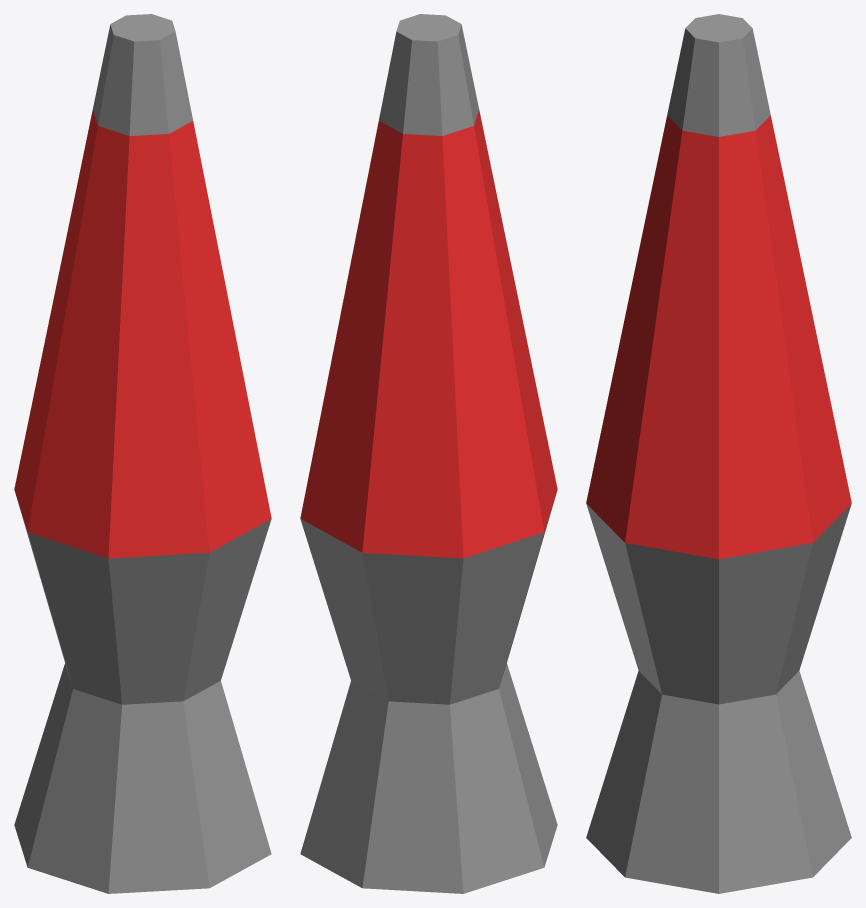
The model's file is lava4.gltf.
3 renders of one model, left to right at view 1: azimuth 30°, elevation 25°; view 2: azimuth 150°, elevation 25°; view 3: azimuth 270°, elevation 25°, orthographic.
Visible parts, largest first — view 1: Mesh_1, Mesh_2; view 2: Mesh_1, Mesh_2; view 3: Mesh_1, Mesh_2.
Boxes of the visible parts, x1,y1,x2,y2 form: Mesh_1: [14, 14, 271, 893]; Mesh_2: [14, 109, 271, 558]; Mesh_1: [300, 14, 557, 893]; Mesh_2: [300, 109, 557, 558]; Mesh_1: [586, 14, 851, 893]; Mesh_2: [586, 115, 851, 559].
Size of the model in its own units: 2 by 6.72 by 2.
